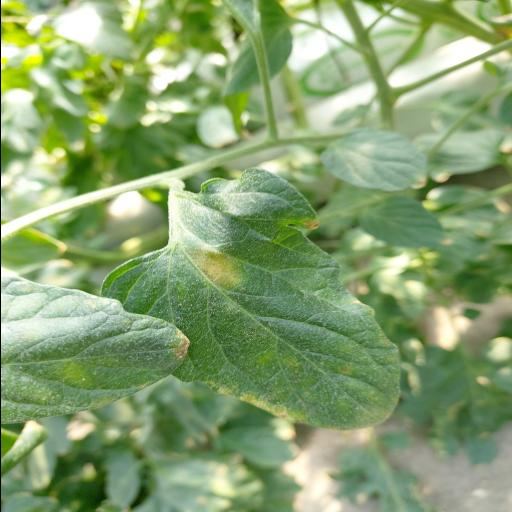Leaf Mold: (100, 168, 402, 432)
